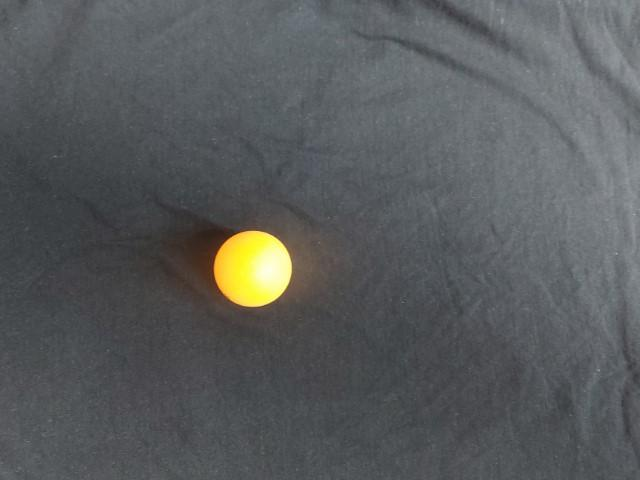oball: (210, 227, 296, 313)
